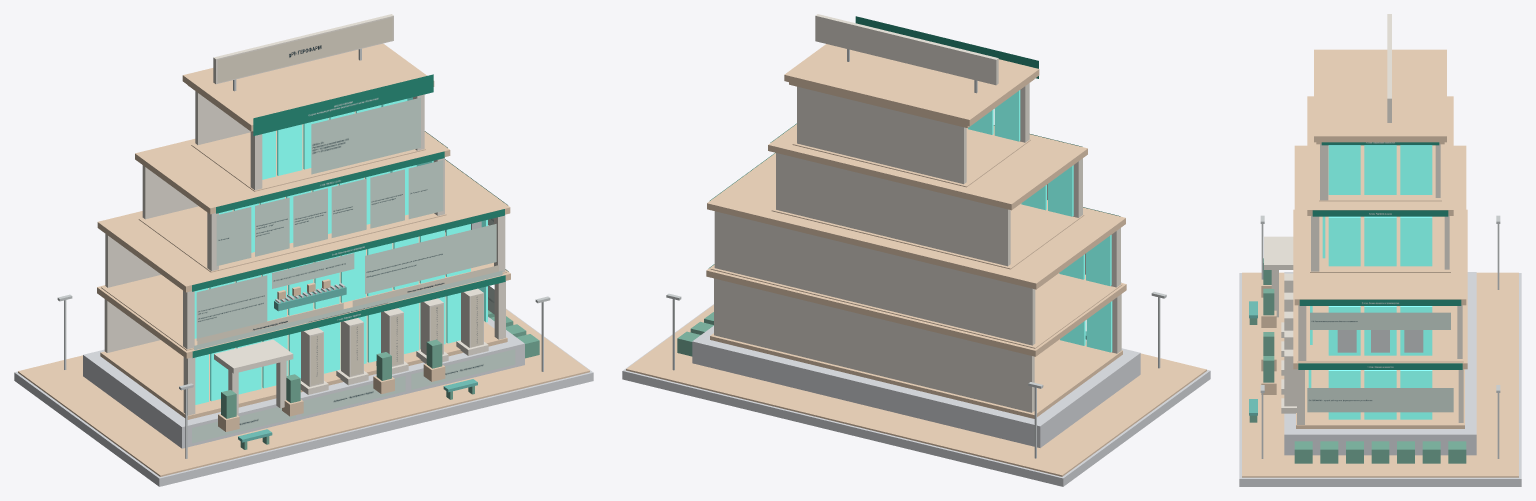
The model's file is geropharm-house.glb.
The picture shows the model from 3 angles, left to right: view 1: azimuth 30°, elevation 25°; view 2: azimuth 150°, elevation 25°; view 3: azimuth 270°, elevation 25°; orthographic projection. The views are drawn at different scales.
Visible parts, largest first — view 1: Paving, Mission roof, Cornice_floor2, Values plinth, Plaza, Slab_floor1, Cornice_floor3, Financial indicators, Obolensk initiatives, Window_floor1 (×6), Brand, Slab_floor3 (+38 smaller); view 2: Rear_floor2, Rear_floor1, Paving, Rear_floor3, Values plinth, Mission roof, Cornice_floor2, Rear_floor4, Cornice_floor3, Plaza, Slab_floor1, Roof sign backing (+10 smaller); view 3: Paving, Mission roof, Cornice_floor2, Values plinth, Side window_floor3 (×3), Side window_floor4 (×3), Plaza, Employer, Cornice_floor3, Slab_floor2, Slab_floor1, Shrub (×7) (+23 smaller).
Part boxes in pixels (<box>): Paving: <box>18,309,589,476</box>; Mission roof: <box>182,43,434,131</box>; Cornice_floor2: <box>97,159,510,292</box>; Values plinth: <box>83,317,524,448</box>; Plaza: <box>14,308,593,486</box>; Slab_floor1: <box>100,296,507,419</box>; Cornice_floor3: <box>135,131,450,214</box>; Financial indicators: <box>311,97,420,174</box>; Obolensk initiatives: <box>365,224,496,293</box>; Window_floor1 (×6): <box>195,293,460,404</box>; Brand: <box>217,17,392,82</box>; Slab_floor3: <box>138,177,446,272</box>; Rear_floor2: <box>714,211,1035,345</box>; Rear_floor1: <box>714,278,1034,412</box>; Paving: <box>626,305,1206,476</box>; Rear_floor3: <box>776,153,1010,266</box>; Values plinth: <box>692,326,1140,447</box>; Mission roof: <box>784,44,1039,126</box>; Cornice_floor2: <box>707,153,1125,289</box>; Rear_floor4: <box>797,86,966,184</box>; Cornice_floor3: <box>768,124,1087,210</box>; Plaza: <box>622,304,1210,486</box>; Slab_floor1: <box>710,333,1122,418</box>; Roof sign backing: <box>815,14,998,85</box>; Paving: <box>1242,272,1518,477</box>; Mission roof: <box>1314,49,1446,142</box>; Cornice_floor2: <box>1294,145,1466,305</box>; Values plinth: <box>1284,272,1476,455</box>; Side window_floor3 (×3): <box>1328,216,1432,266</box>; Side window_floor4 (×3): <box>1328,145,1432,194</box>; Plaza: <box>1239,273,1521,486</box>; Employer: <box>1307,388,1453,412</box>; Cornice_floor3: <box>1307,96,1453,215</box>; Slab_floor2: <box>1297,305,1463,362</box>; Slab_floor1: <box>1296,369,1464,428</box>; Shrub (×7): <box>1294,441,1466,463</box>.
Size of the model in its own units: 19 by 14.2 by 11.
Materials: 56 (33 with a texture image).
